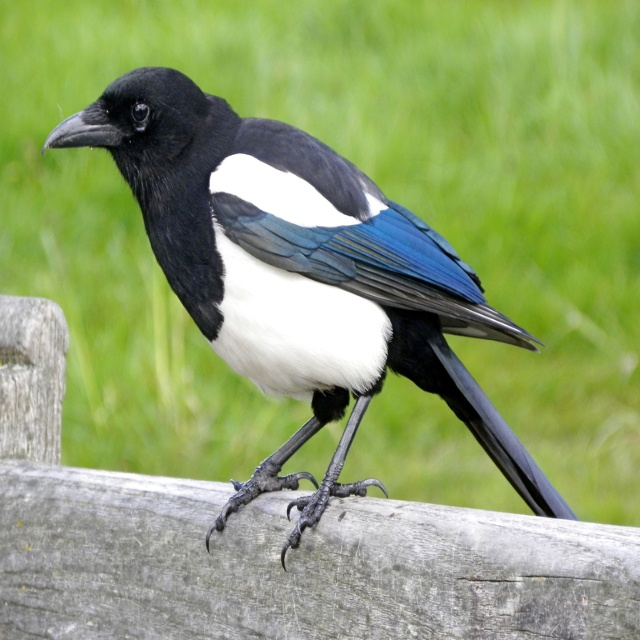Magpie: (41, 66, 581, 572)
